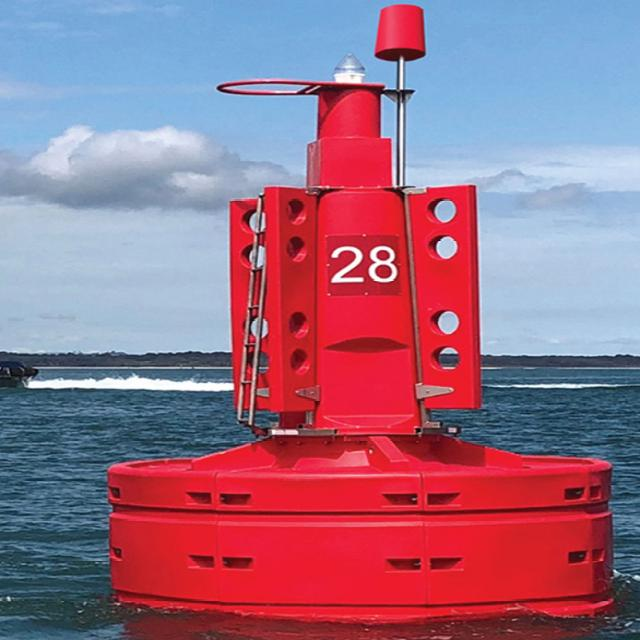buoy: (104, 0, 621, 624)
